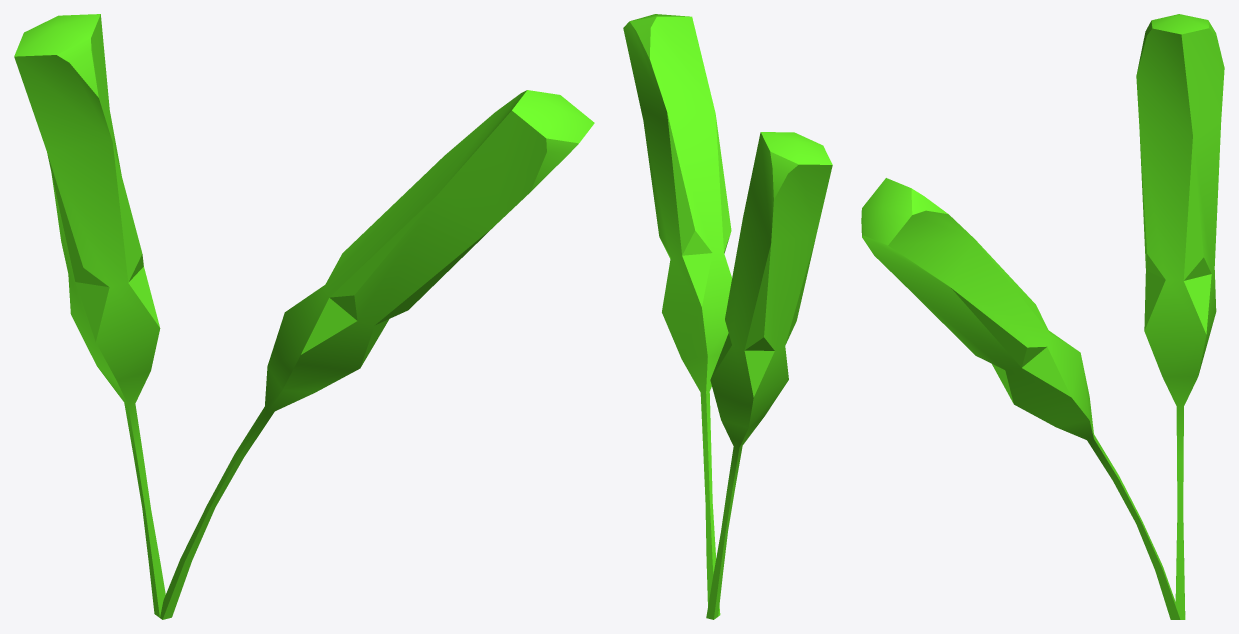
The model's file is SM_Flower_8.FBX.
3 views of the same model, side by side, from view 1: azimuth 30°, elevation 25°; view 2: azimuth 150°, elevation 25°; view 3: azimuth 270°, elevation 25° (orthographic). The views are drawn at different scales.
Visible parts, largest first — view 1: 8; view 2: 8; view 3: 8.
Part boxes in pixels (bbox=[...]): 8: bbox=[14, 14, 594, 619]; 8: bbox=[623, 14, 832, 619]; 8: bbox=[861, 14, 1224, 619].
Size of the model in its own units: 5.43 by 7.6 by 4.49.
